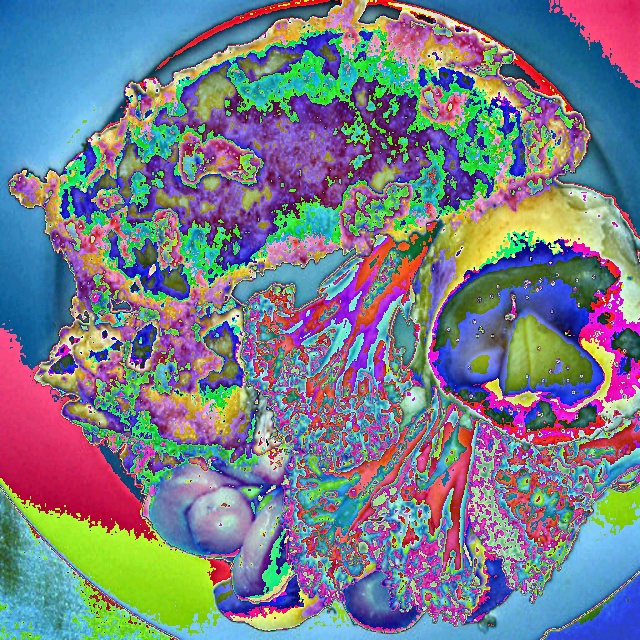background: (8, 0, 639, 637)
